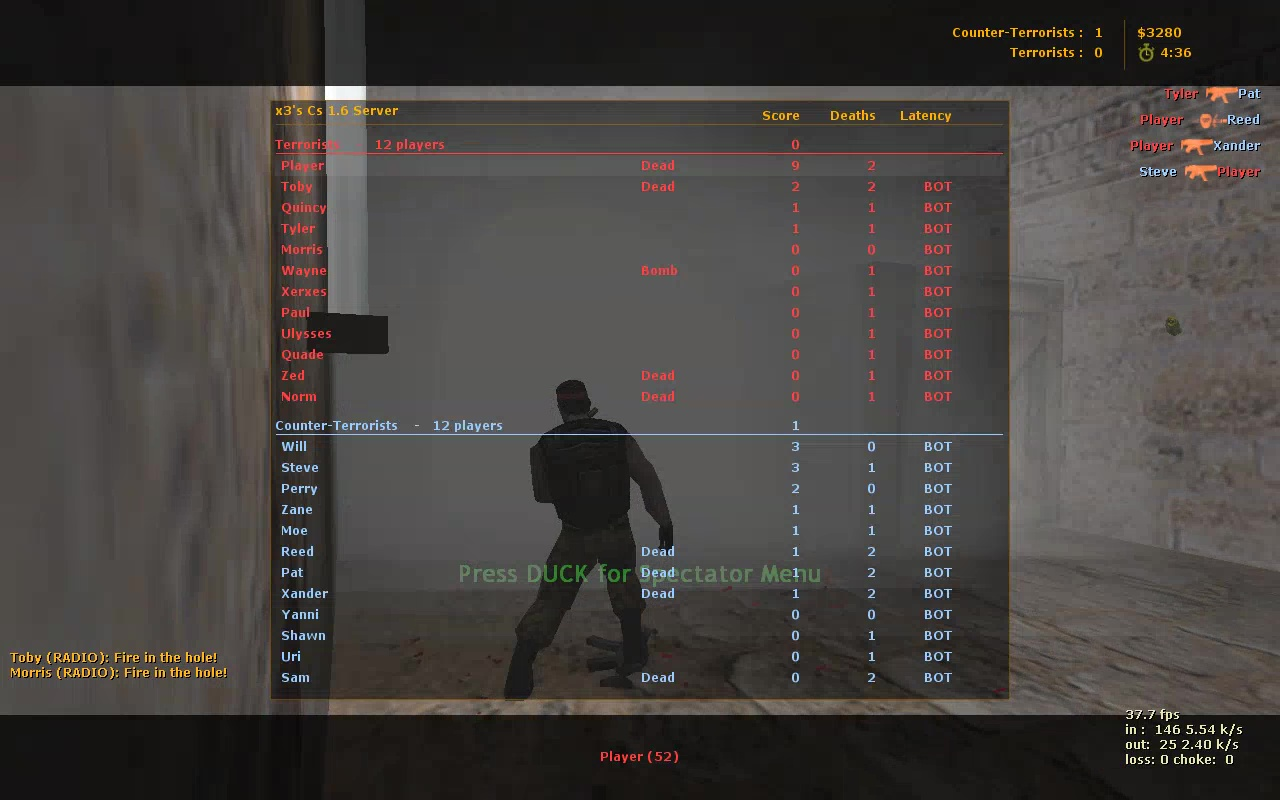terr1: (514, 377, 675, 689)
